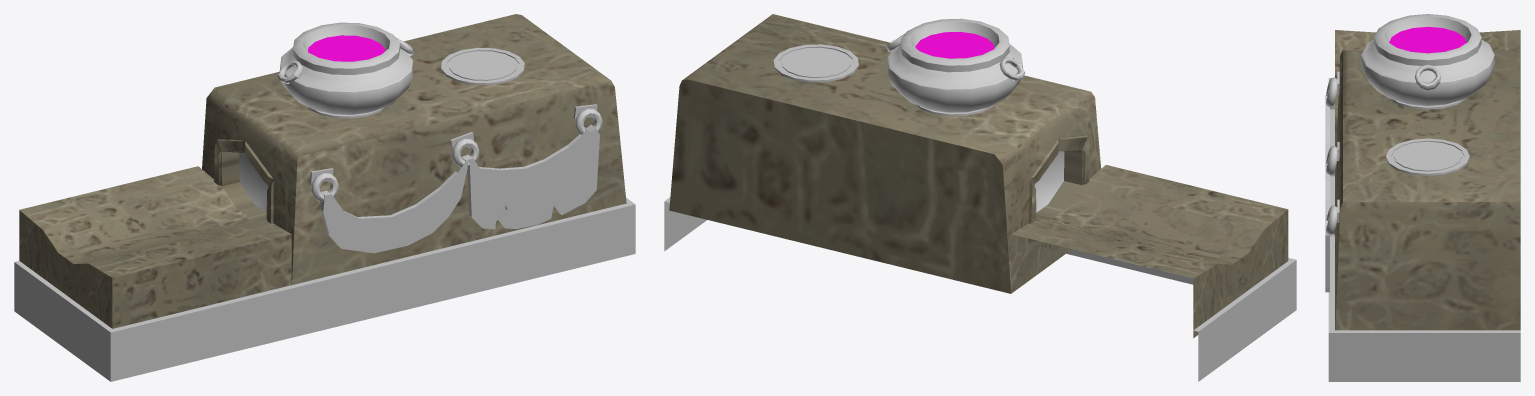
Rendered from Maquina_Fogo.fbx.
3 renders of one model, left to right at view 1: azimuth 30°, elevation 25°; view 2: azimuth 150°, elevation 25°; view 3: azimuth 270°, elevation 25°, orthographic. The views are drawn at different scales.
Parts seen in each view (by area): view 1: Máquina_Fogo, Máquina_Fogo.001; view 2: Máquina_Fogo, Máquina_Fogo.001; view 3: Máquina_Fogo, Máquina_Fogo.001.
Boxes of the visible parts, x1,y1,x2,y2 form: Máquina_Fogo: [14, 14, 635, 381]; Máquina_Fogo.001: [277, 22, 602, 253]; Máquina_Fogo: [664, 14, 1296, 381]; Máquina_Fogo.001: [773, 18, 1024, 116]; Máquina_Fogo: [1328, 30, 1520, 381]; Máquina_Fogo.001: [1325, 14, 1495, 292].
Bounding box in the file's own units: 510 × 216 × 165.
